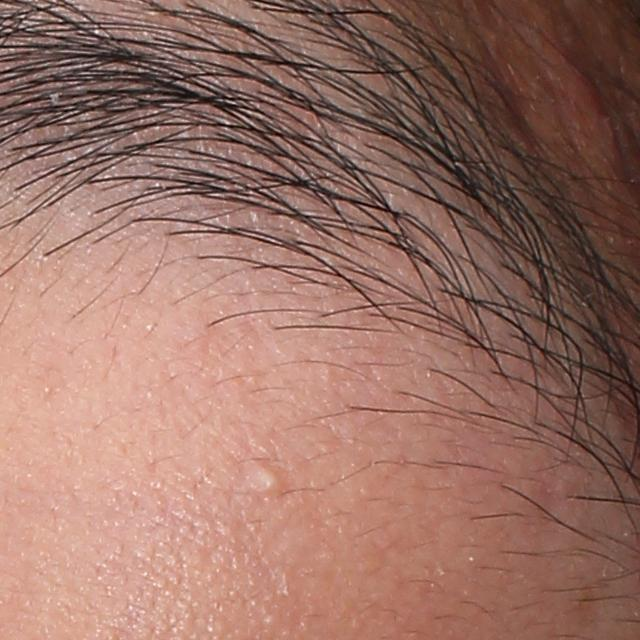comedo: (250, 465, 282, 495)
